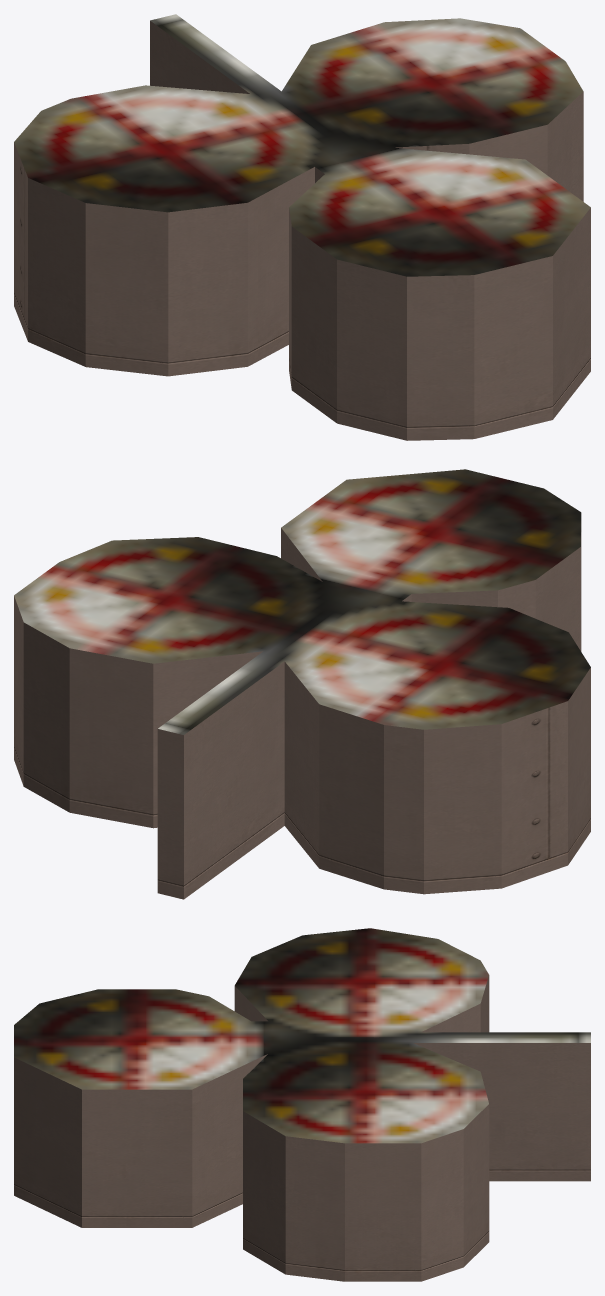
File: fuel_tank_medium_01.glb
The picture shows the model from 3 angles, top to bottom: view 1: azimuth 30°, elevation 25°; view 2: azimuth 150°, elevation 25°; view 3: azimuth 270°, elevation 25°; orthographic projection. The views are drawn at different scales.
Parts seen in each view (by area): view 1: buildings/saxarba/fuel_tanks/fuel_tank_medium_01; view 2: buildings/saxarba/fuel_tanks/fuel_tank_medium_01; view 3: buildings/saxarba/fuel_tanks/fuel_tank_medium_01.
Part boxes in pixels (bbox=[...]): buildings/saxarba/fuel_tanks/fuel_tank_medium_01: bbox=[14, 14, 590, 440]; buildings/saxarba/fuel_tanks/fuel_tank_medium_01: bbox=[14, 469, 590, 899]; buildings/saxarba/fuel_tanks/fuel_tank_medium_01: bbox=[14, 928, 590, 1281].
Bounding box in the file's own units: 60 × 18 × 68.
